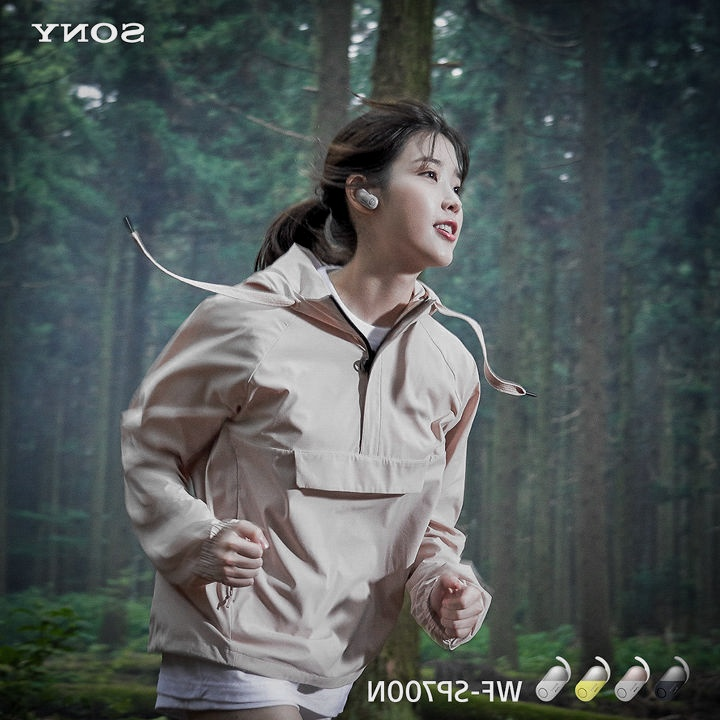earphone: (344, 174, 379, 214)
